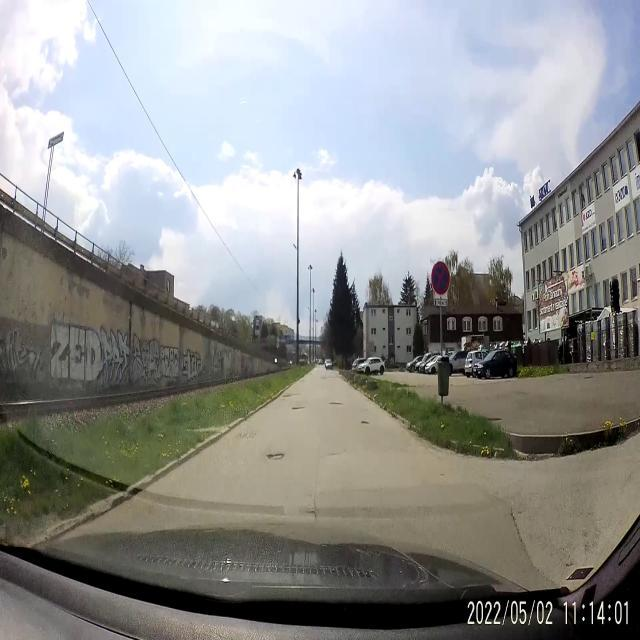Pothole: (356, 413, 373, 439), (265, 446, 288, 464), (287, 402, 306, 420), (328, 400, 347, 415), (281, 392, 301, 399)
